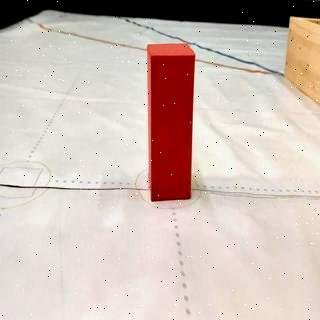redbox: (146, 42, 194, 203)
